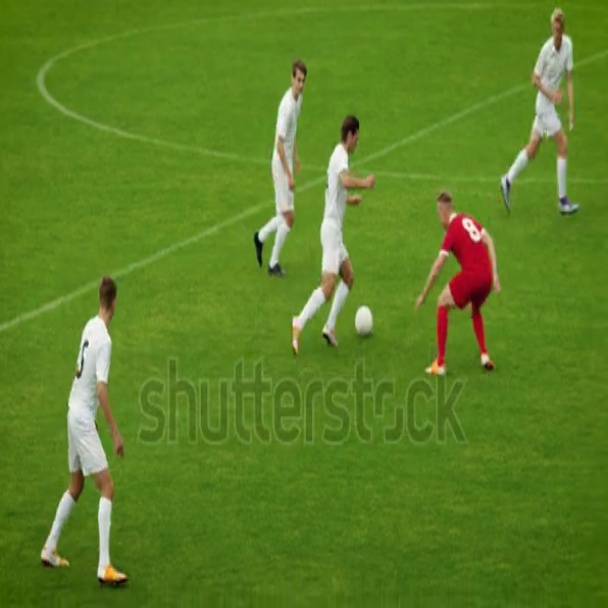ball: (357, 303, 373, 338)
